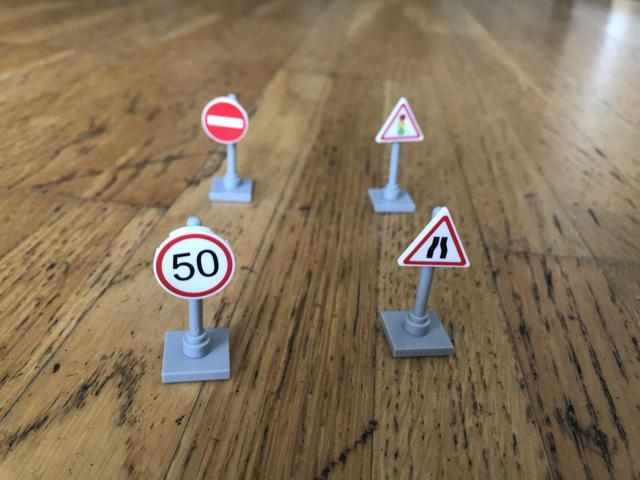lichtzeichenanlage: (374, 98, 424, 143)
tempolimit 50: (155, 226, 235, 299)
verbot der einfahrt: (200, 94, 248, 142)
verengte fahrbahn: (400, 206, 472, 271)
